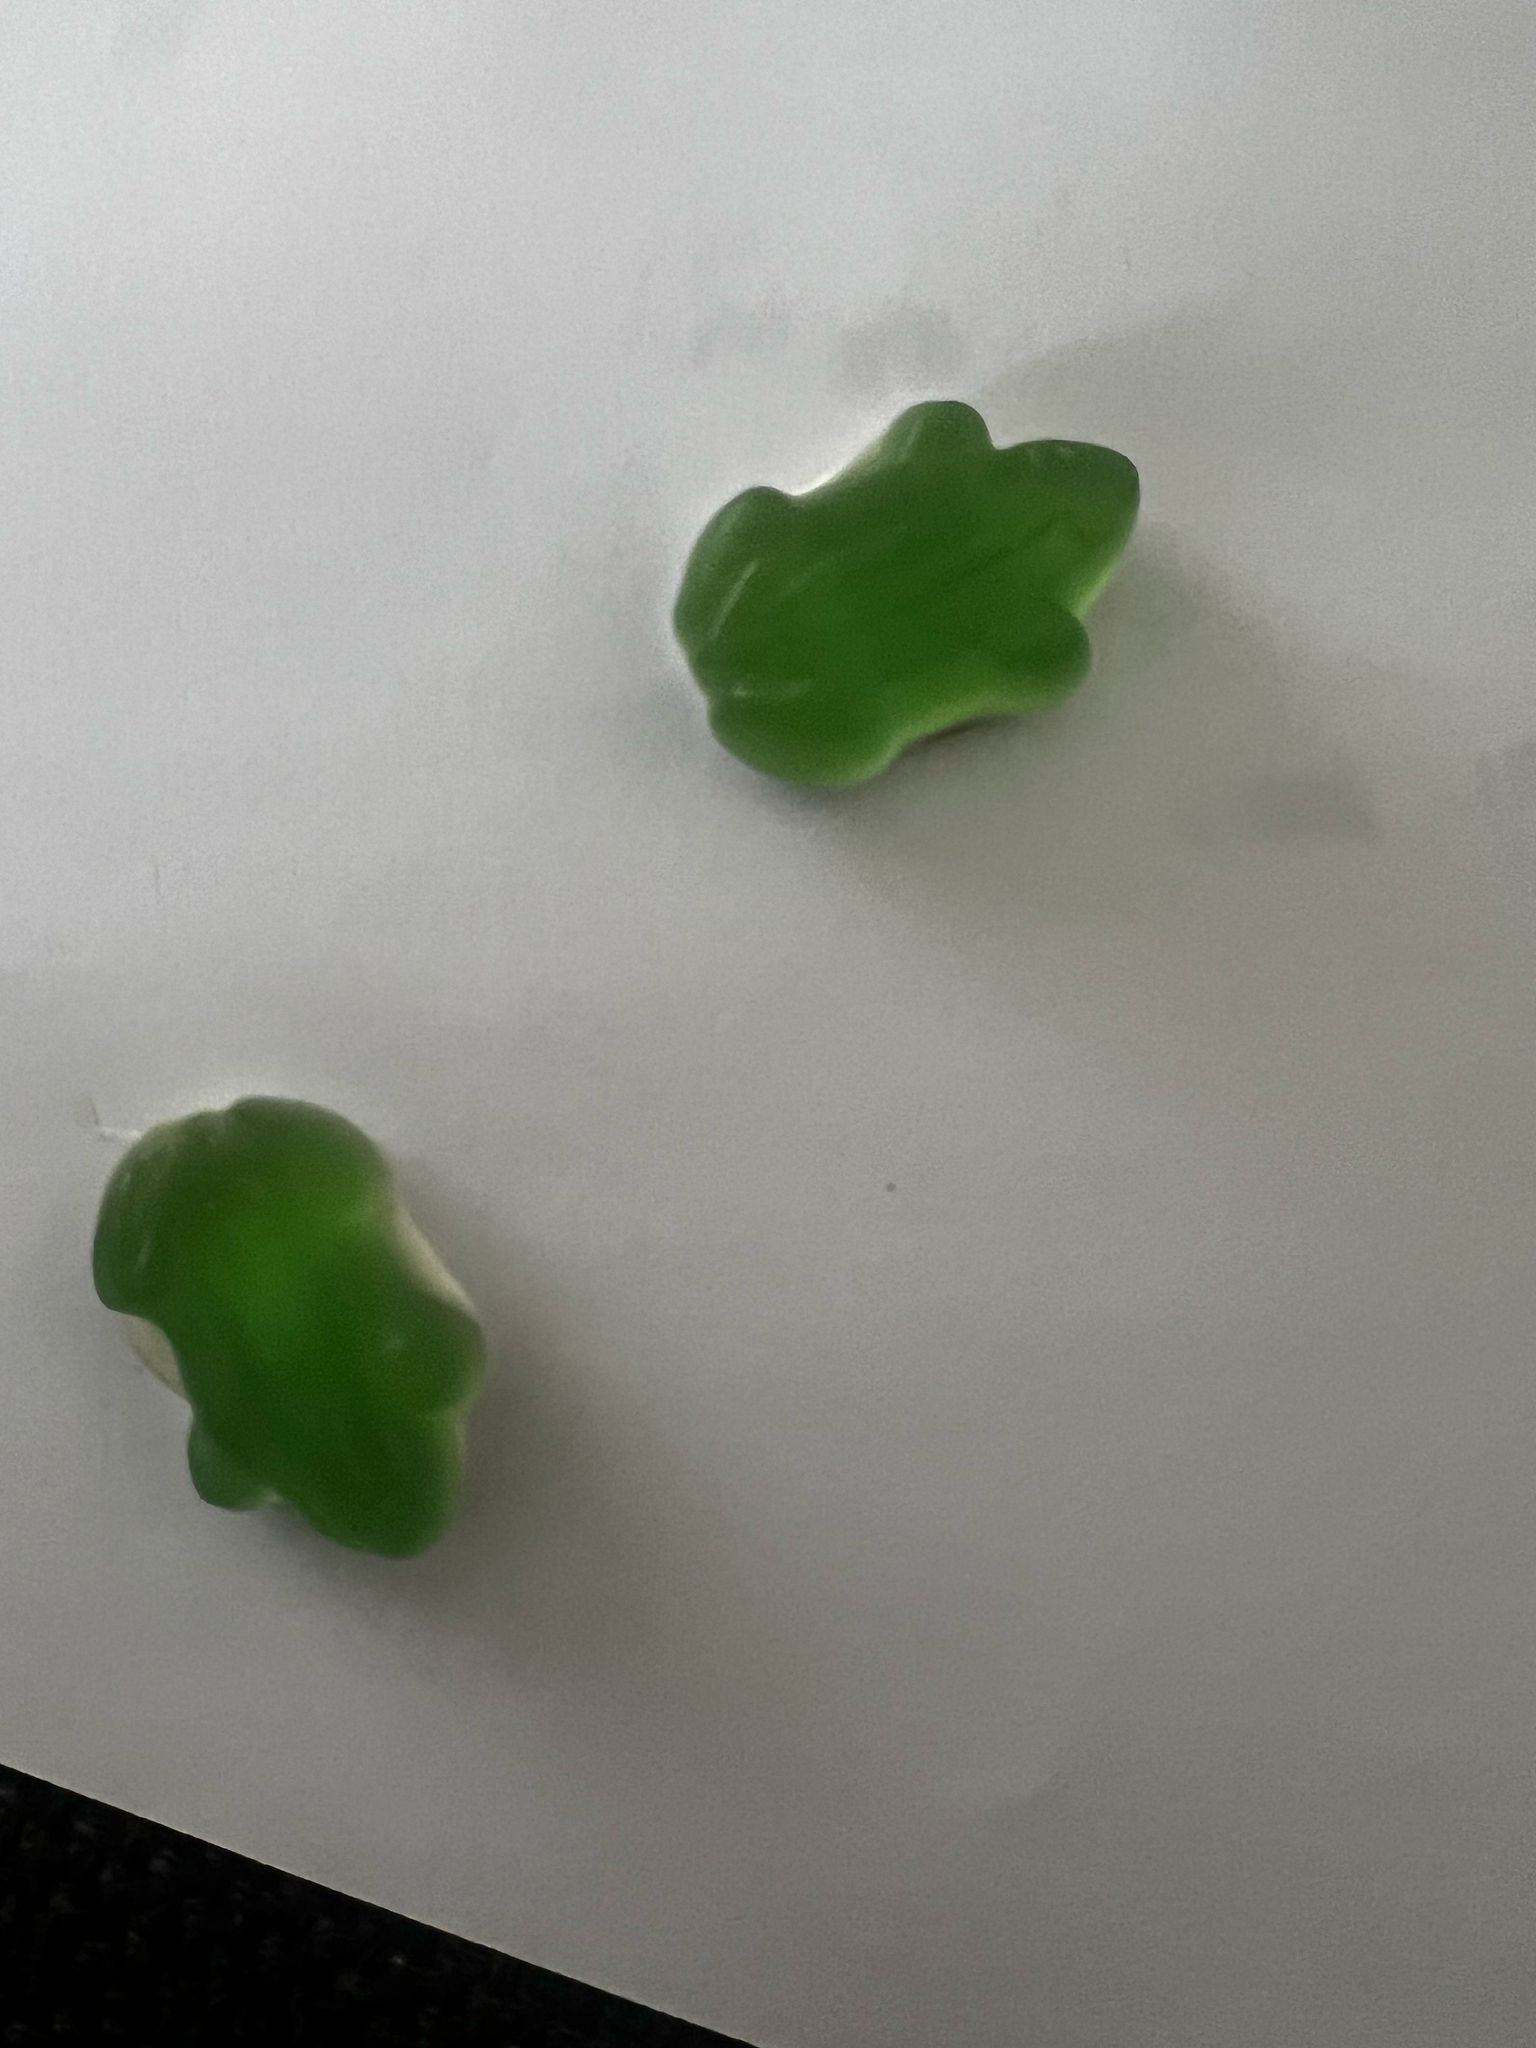frog: (665, 385, 1162, 801), (79, 1077, 495, 1569)
